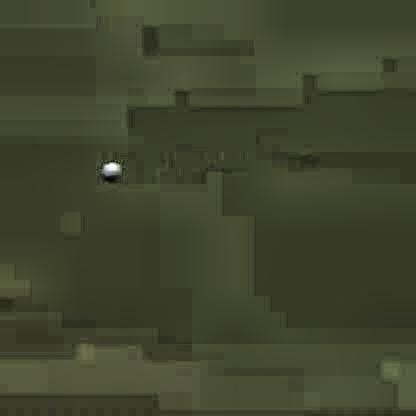golfball: (99, 159, 119, 179)
